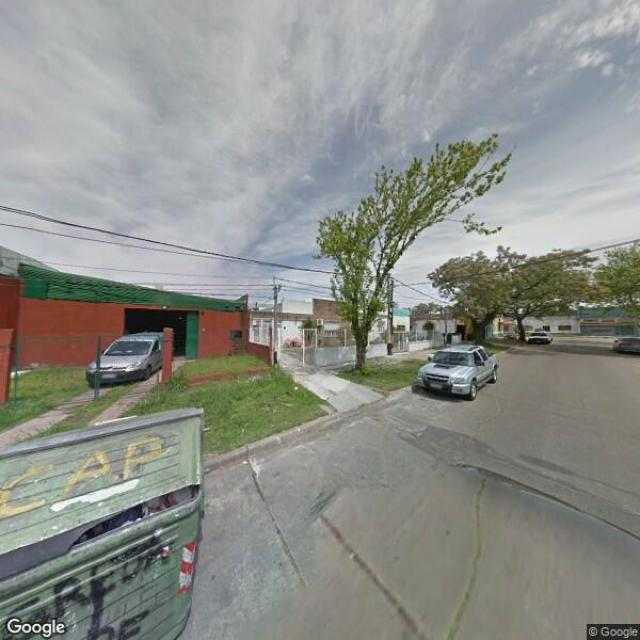garbage container: (2, 399, 219, 640)
